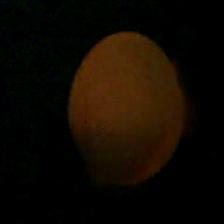fertile: (62, 28, 192, 190)
